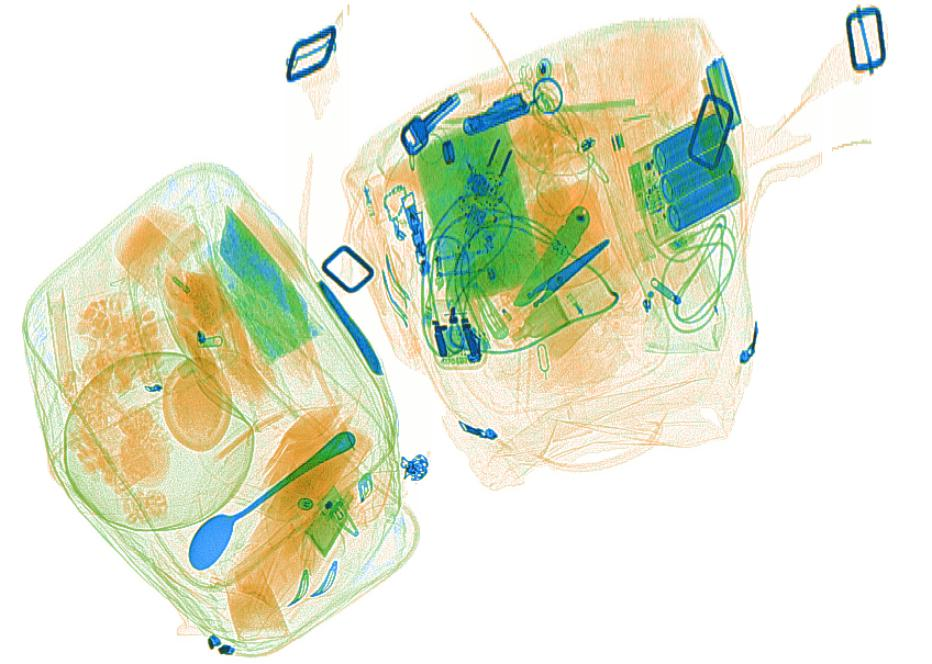battery: (630, 105, 745, 250)
knife: (510, 202, 592, 310)
plasticBottleWithaNozzle: (111, 216, 203, 306)
scissors: (483, 237, 611, 345)
